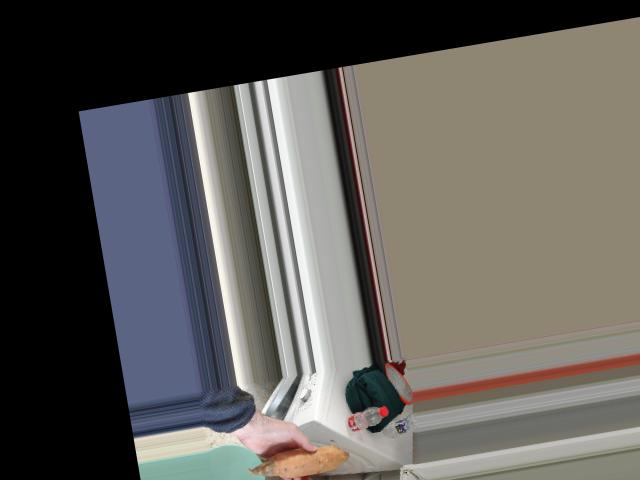sweet_potato: (260, 444, 337, 478)
